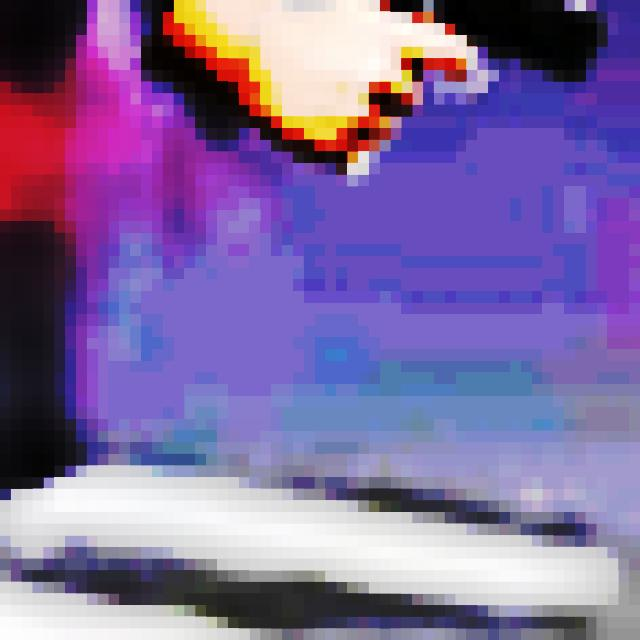arms: (271, 0, 608, 163)
